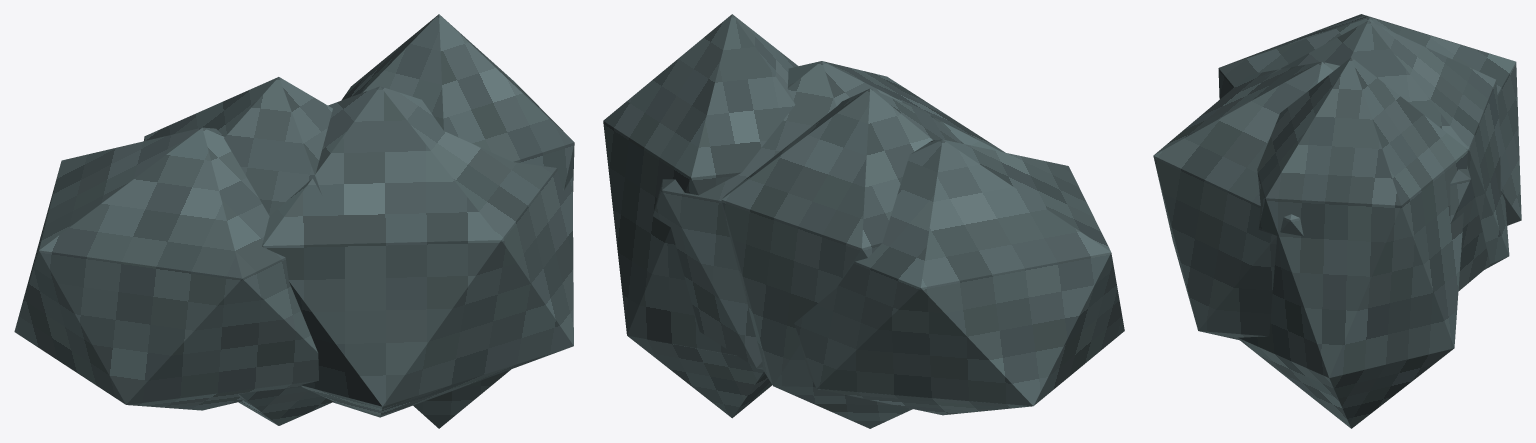
The model's file is ruin_15.glb.
3 renders of one model, left to right at view 1: azimuth 30°, elevation 25°; view 2: azimuth 150°, elevation 25°; view 3: azimuth 270°, elevation 25°, orthographic. The views are drawn at different scales.
Parts seen in each view (by area): view 1: WeatheredStone.002, WeatheredStone, WeatheredStone.003, WeatheredStone.001; view 2: WeatheredStone, WeatheredStone.003, WeatheredStone.001, WeatheredStone.002; view 3: WeatheredStone.003, WeatheredStone.002, WeatheredStone.001, WeatheredStone.
Part boxes in pixels (x1,y1,x2,y2): WeatheredStone.002: (262,86,573,417); WeatheredStone: (14,127,318,410); WeatheredStone.003: (341,14,574,428); WeatheredStone.001: (144,77,333,425); WeatheredStone: (794,139,1124,415); WeatheredStone.003: (603,14,798,418); WeatheredStone.001: (721,88,963,428); WeatheredStone.002: (653,61,1005,369); WeatheredStone.003: (1237,57,1468,428); WeatheredStone.002: (1153,62,1490,340); WeatheredStone.001: (1268,21,1509,269); WeatheredStone: (1218,14,1521,225).
Size of the model in its own units: 3.06 by 2.37 by 2.13.
1 material, 1 textured.
